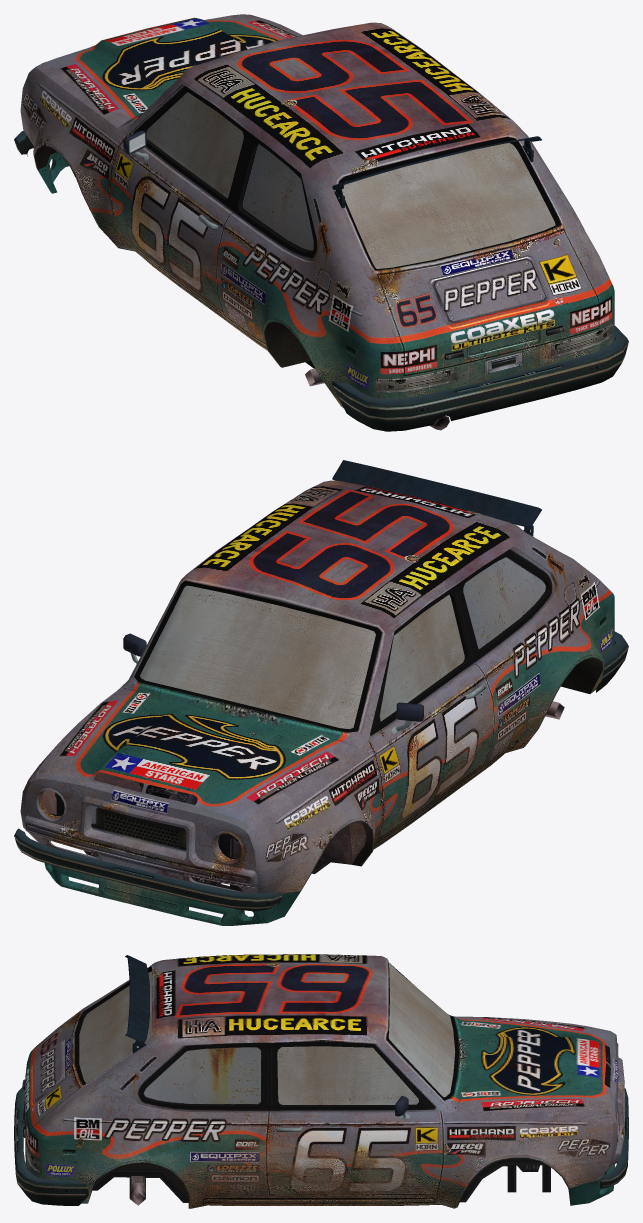
File: pep_body.fbx
The picture shows the model from 3 angles, top to bottom: view 1: azimuth 30°, elevation 25°; view 2: azimuth 150°, elevation 25°; view 3: azimuth 270°, elevation 25°; orthographic projection. The views are drawn at different scales.
Visible parts, largest first — view 1: Surface2; view 2: Surface2; view 3: Surface2.
Boxes of the visible parts, x1,y1,x2,y2 form: Surface2: (14,14,628,431); Surface2: (14,460,628,925); Surface2: (14,954,628,1208).
Bounding box in the file's own units: 165 × 124 × 363.
Materials: 6 (6 with a texture image).
